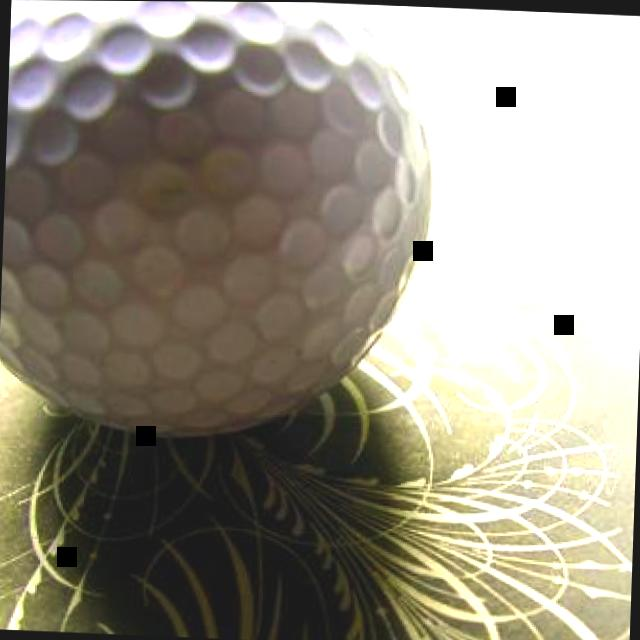golf ball: (0, 0, 480, 487)
